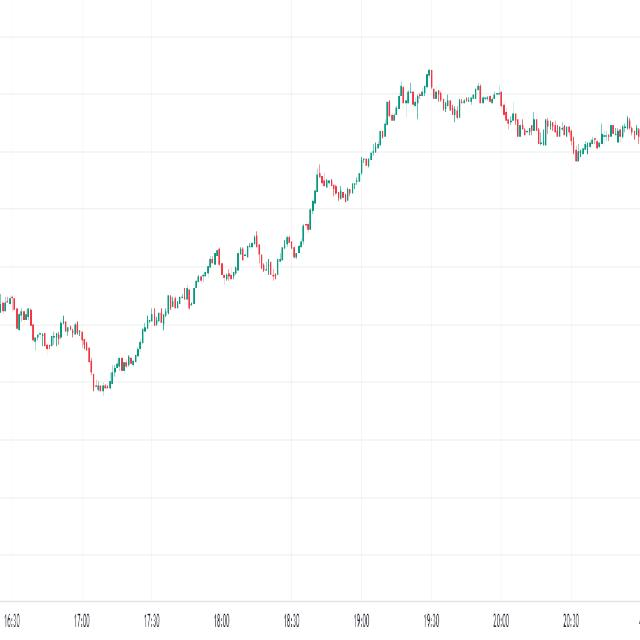Channel-up: (94, 39, 439, 453)
